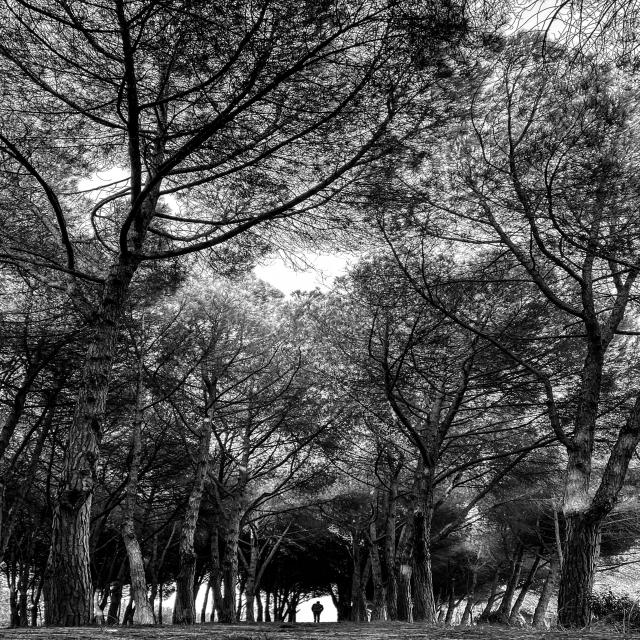tree: (509, 298, 640, 625), (55, 257, 155, 640), (143, 328, 245, 628), (376, 365, 476, 640), (231, 502, 314, 638)
